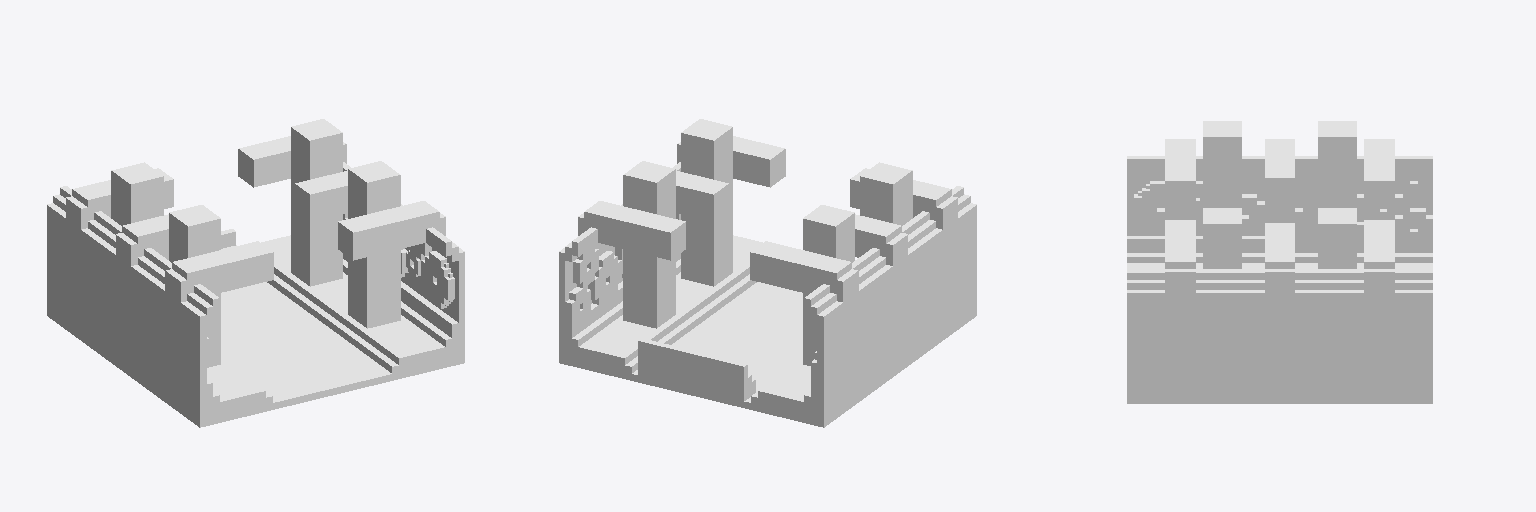
Rendered from factory_core.obj.
The picture shows the model from 3 angles: view 1: azimuth 30°, elevation 25°; view 2: azimuth 150°, elevation 25°; view 3: azimuth 270°, elevation 25°; orthographic projection.
Visible parts, largest first — view 1: factory_core; view 2: factory_core; view 3: factory_core.
Part boxes in pixels (x1,y1,x2,y2): factory_core: (47,119,464,427); factory_core: (559,119,976,427); factory_core: (1127,121,1432,403).
Size of the model in its own units: 80 by 48 by 80.